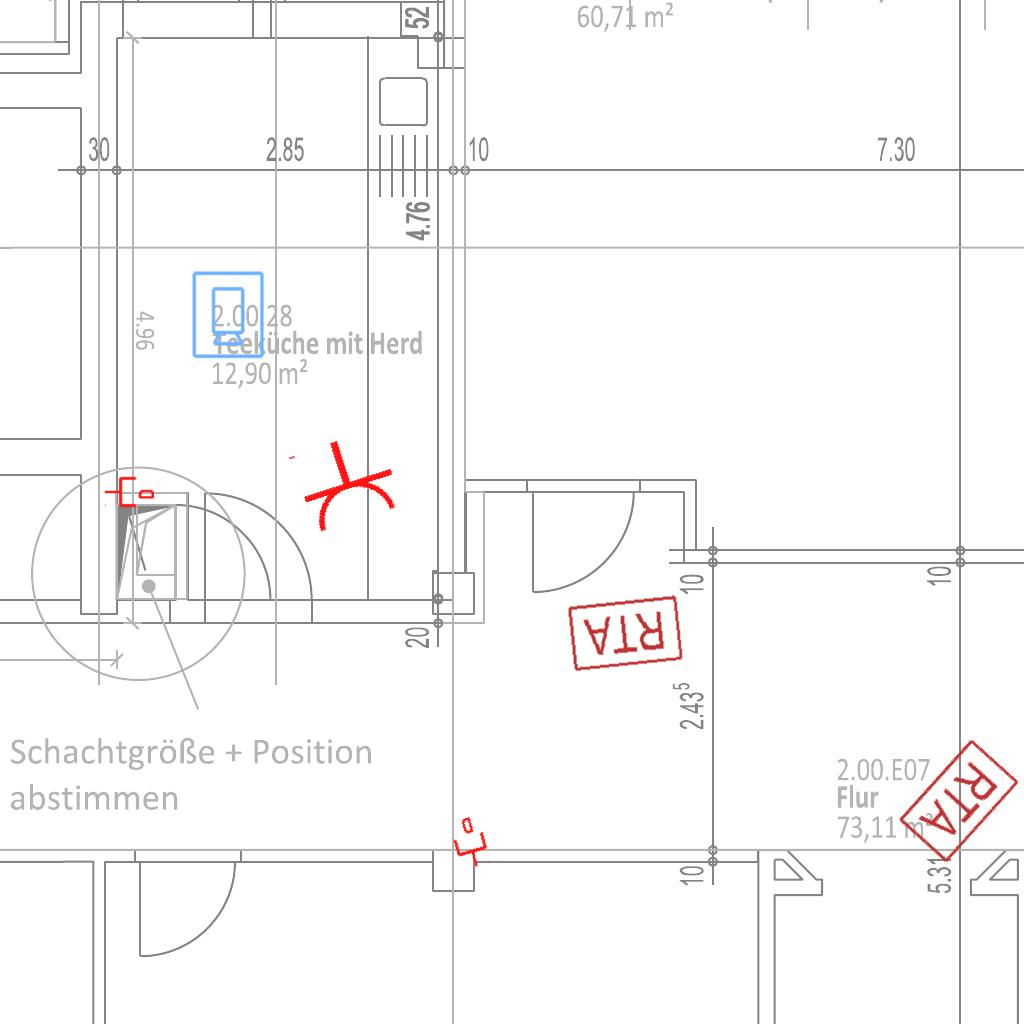Datenanschluss_einfach: (446, 814, 494, 872), (104, 475, 154, 509)
KFO_Kamera_mit_Festobjektiv: (189, 269, 266, 360)
Ruf-und_Abstelltaster: (895, 734, 1024, 866), (566, 592, 687, 674)
Schukosteckdose_einfach: (283, 425, 406, 539)
